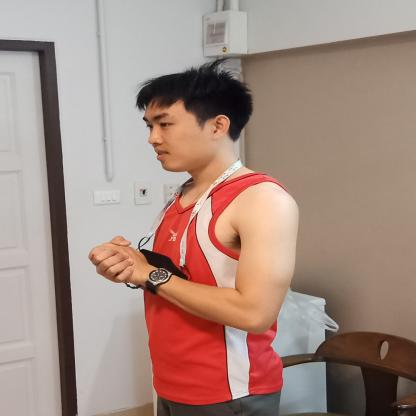Grieve: (78, 226, 211, 318)
